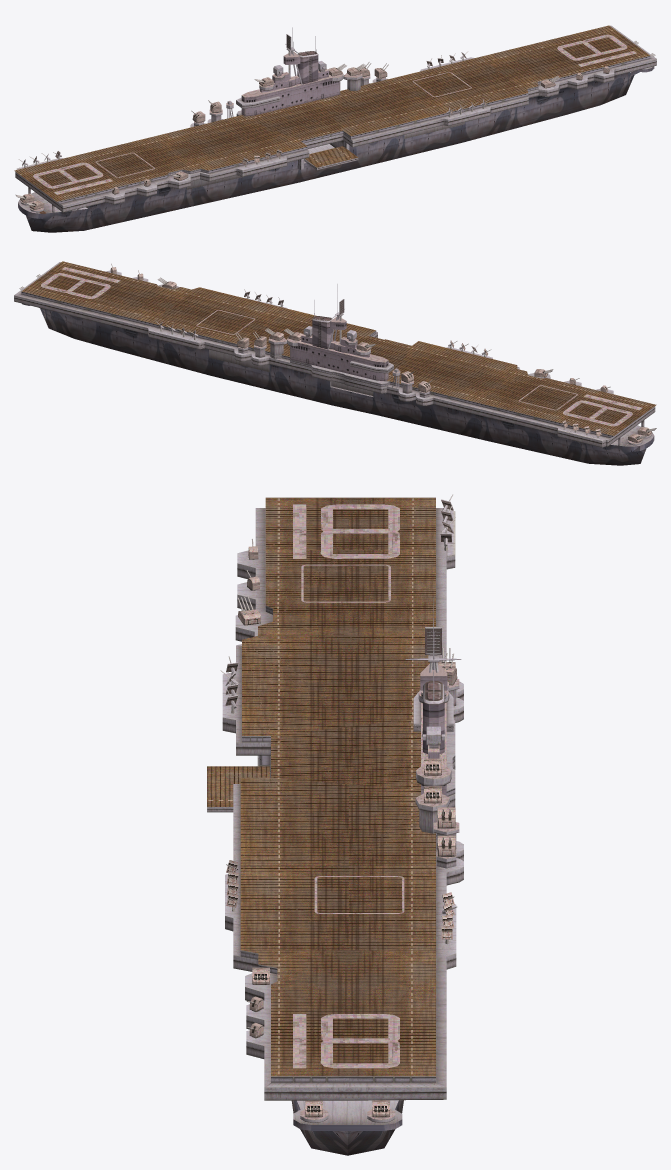
The model's file is USS_Wasp.fbx.
3 renders of one model, top to bottom at view 1: azimuth 30°, elevation 25°; view 2: azimuth 150°, elevation 25°; view 3: azimuth 270°, elevation 25°, orthographic. The views are drawn at different scales.
Visible parts, largest first — view 1: USS_WASP_HULL, Lift; view 2: USS_WASP_HULL; view 3: USS_WASP_HULL, Lift.
Boxes of the visible parts, x1,y1,x2,y2 form: USS_WASP_HULL: (14, 25, 656, 232); Lift: (304, 146, 358, 170); USS_WASP_HULL: (14, 261, 656, 465); USS_WASP_HULL: (220, 494, 463, 1155); Lift: (207, 766, 269, 812).
Bounding box in the file's own units: 265 × 53.63 × 47.47.
17 materials, 17 textured.
